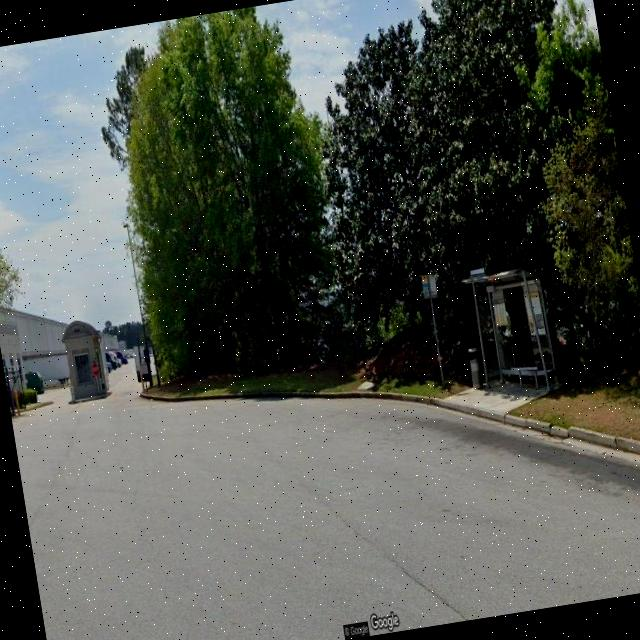seating: (510, 362, 542, 394)
shelter: (459, 262, 562, 406)
trash_can: (468, 348, 483, 390)
